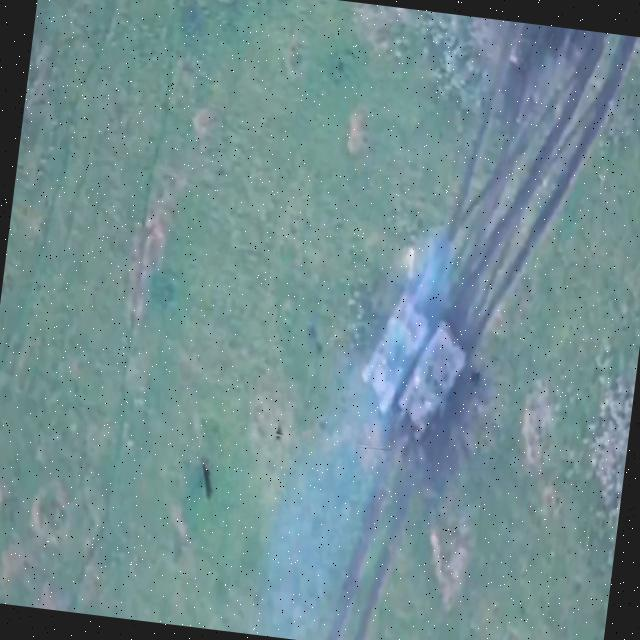MBT: (356, 251, 439, 424), (391, 308, 475, 474)
